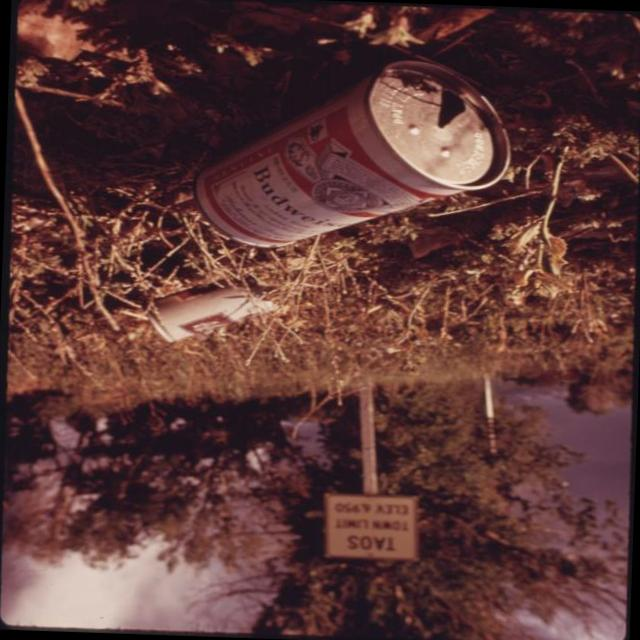Kaleng: (190, 48, 516, 258)
